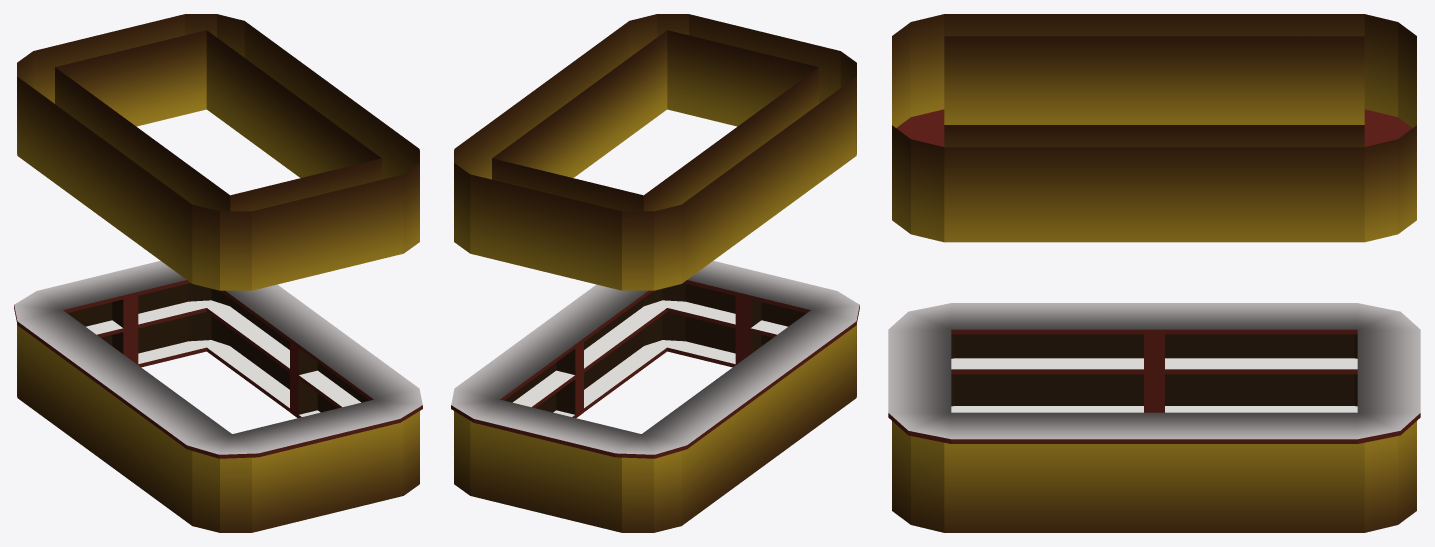
The model's file is Bar_001.fbx.
3 renders of one model, left to right at view 1: azimuth 30°, elevation 25°; view 2: azimuth 150°, elevation 25°; view 3: azimuth 270°, elevation 25°, orthographic. The views are drawn at different scales.
Parts seen in each view (by area): view 1: Bar_001; view 2: Bar_001; view 3: Bar_001.
Boxes of the visible parts, left/top/right/bottom form: Bar_001: left=14, top=14, right=422, bottom=532; Bar_001: left=451, top=14, right=859, bottom=532; Bar_001: left=888, top=14, right=1420, bottom=532.
Bounding box in the file's own units: 307 × 405 × 507.
